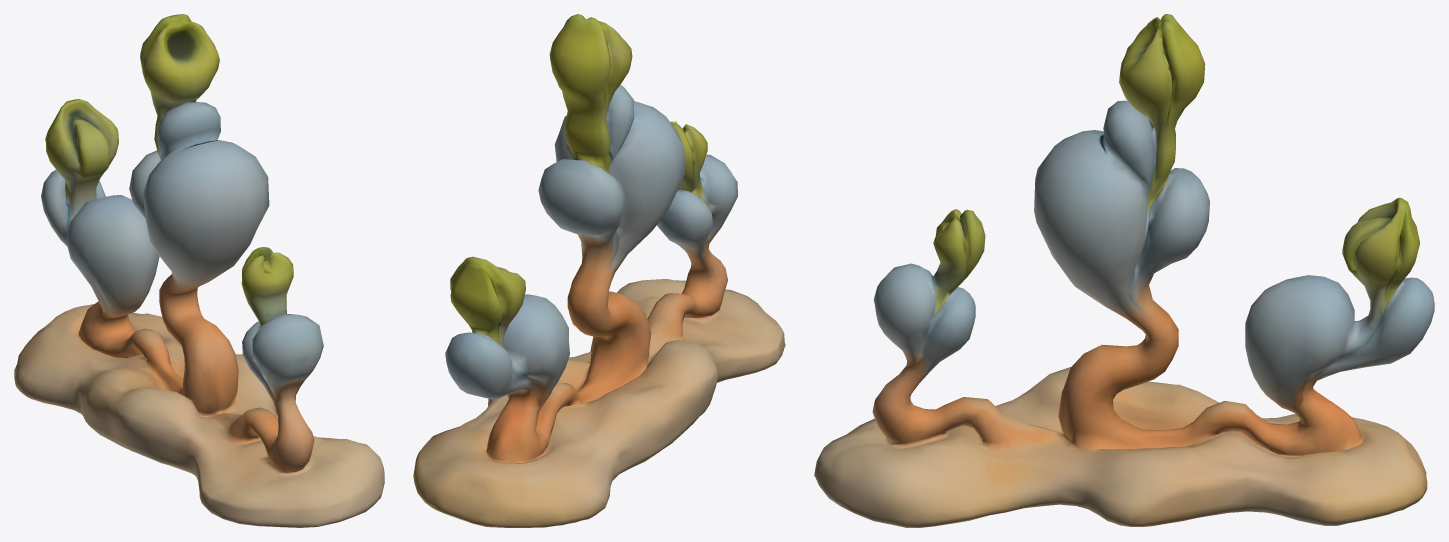
File: d5a3719d-0baf-492e-811a-8a8aacf51fdf.glb
The picture shows the model from 3 angles, left to right: view 1: azimuth 30°, elevation 25°; view 2: azimuth 150°, elevation 25°; view 3: azimuth 270°, elevation 25°; orthographic projection. The views are drawn at different scales.
Visible parts, largest first — view 1: tripo_node_91828d31-5701-4df1-8276-fb115588f9b6; view 2: tripo_node_91828d31-5701-4df1-8276-fb115588f9b6; view 3: tripo_node_91828d31-5701-4df1-8276-fb115588f9b6.
Part boxes in pixels (x1,y1,x2,y2): tripo_node_91828d31-5701-4df1-8276-fb115588f9b6: [14, 14, 384, 527]; tripo_node_91828d31-5701-4df1-8276-fb115588f9b6: [413, 14, 785, 527]; tripo_node_91828d31-5701-4df1-8276-fb115588f9b6: [814, 14, 1434, 527].
Size of the model in its own units: 0.4012 by 0.8376 by 1.
1 material, 1 textured.
